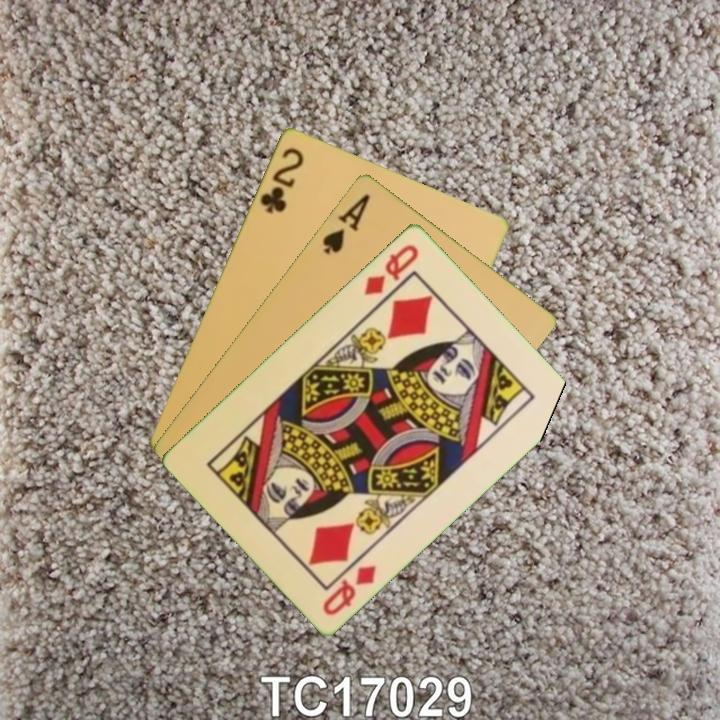2c: (256, 143, 307, 216)
As: (318, 190, 373, 257)
Qd: (360, 240, 422, 298), (319, 560, 379, 618)
